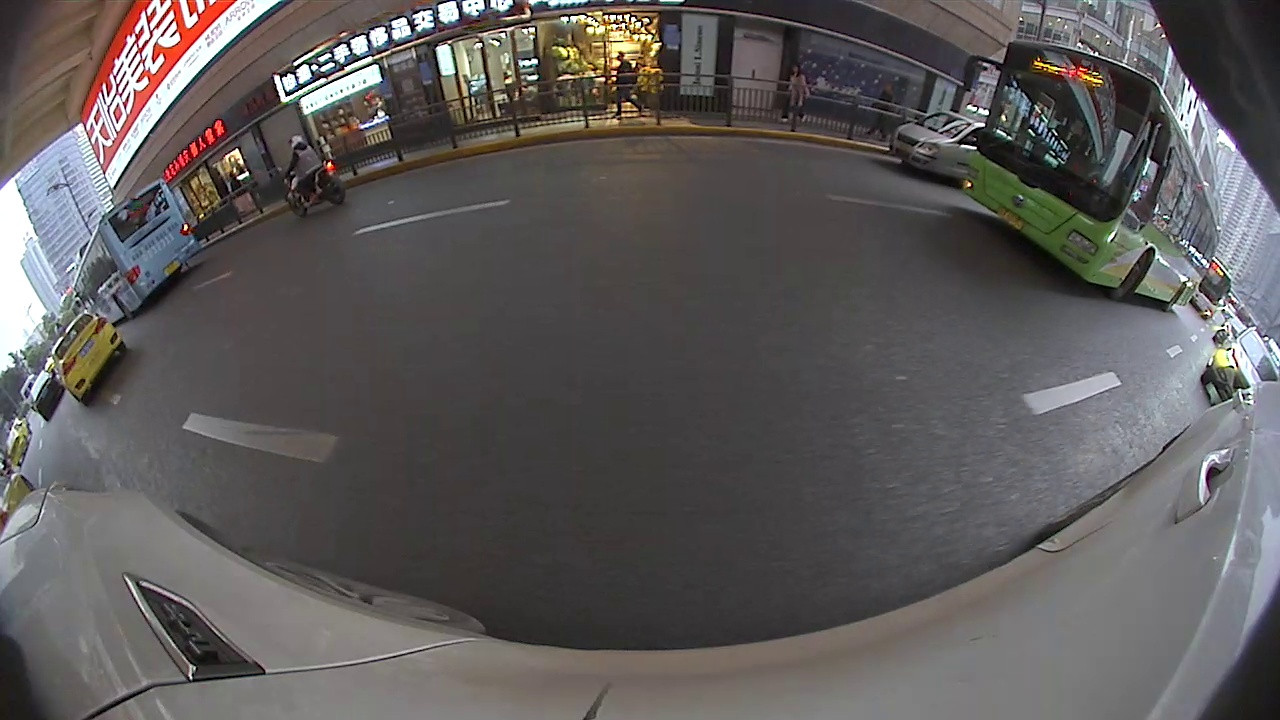bus: (965, 39, 1219, 317), (74, 177, 208, 324)
car: (887, 112, 991, 187), (49, 307, 124, 409), (1202, 328, 1277, 406), (22, 370, 66, 421)
front: (1111, 247, 1154, 300)
rider: (280, 131, 343, 224)
